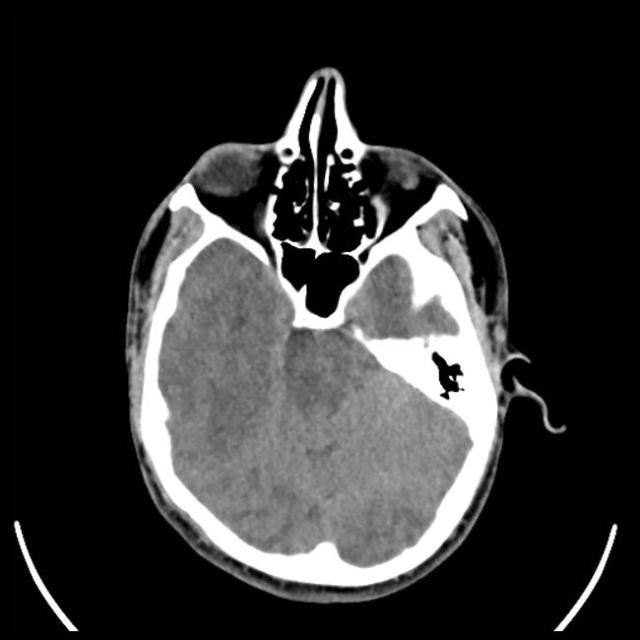lesion: (118, 64, 563, 604)
